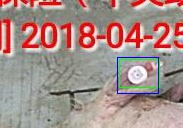text: (119, 59, 159, 87)
